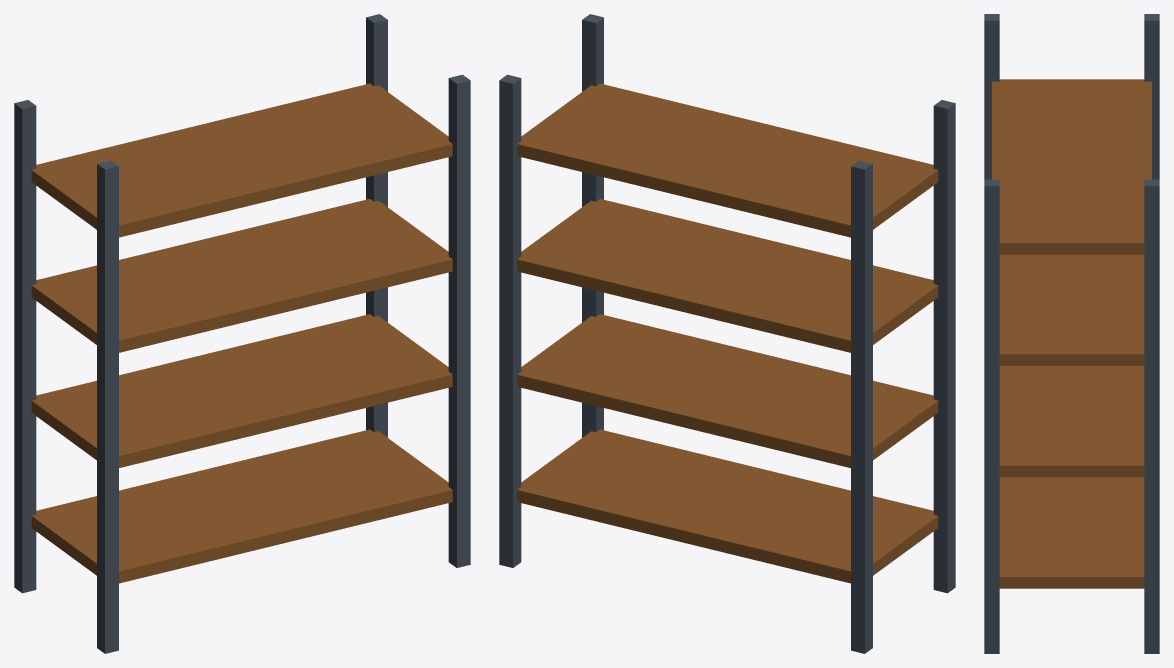
Rendered from shelf_rack_01.glb.
3 views of the same model, side by side, from view 1: azimuth 30°, elevation 25°; view 2: azimuth 150°, elevation 25°; view 3: azimuth 270°, elevation 25° (orthographic). The views are drawn at different scales.
Parts seen in each view (by area): view 1: shelf_rack_01; view 2: shelf_rack_01; view 3: shelf_rack_01.
Part boxes in pixels (x1,y1,x2,y2): shelf_rack_01: (14, 14, 470, 653); shelf_rack_01: (499, 14, 955, 653); shelf_rack_01: (984, 14, 1159, 653).
Size of the model in its own units: 1.58 by 2 by 0.68.
